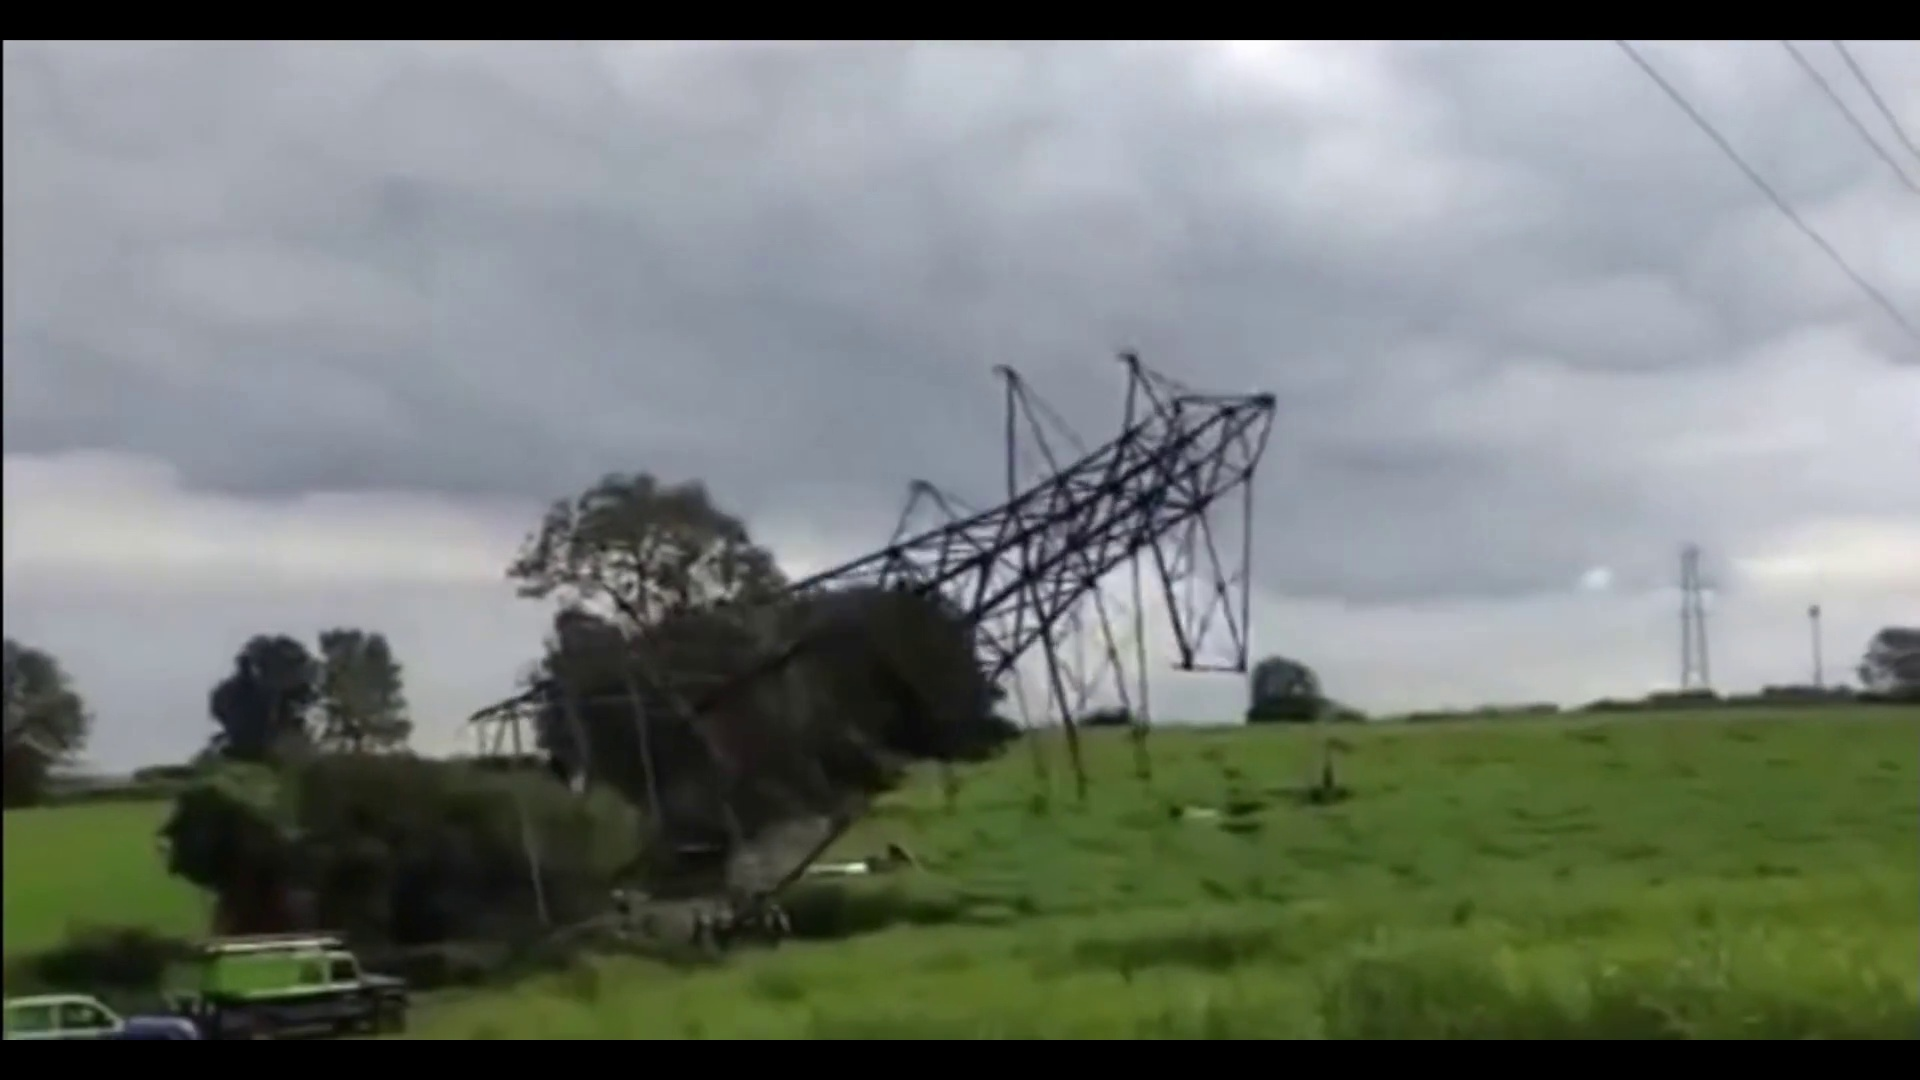tower_down: (828, 345, 1327, 767)
